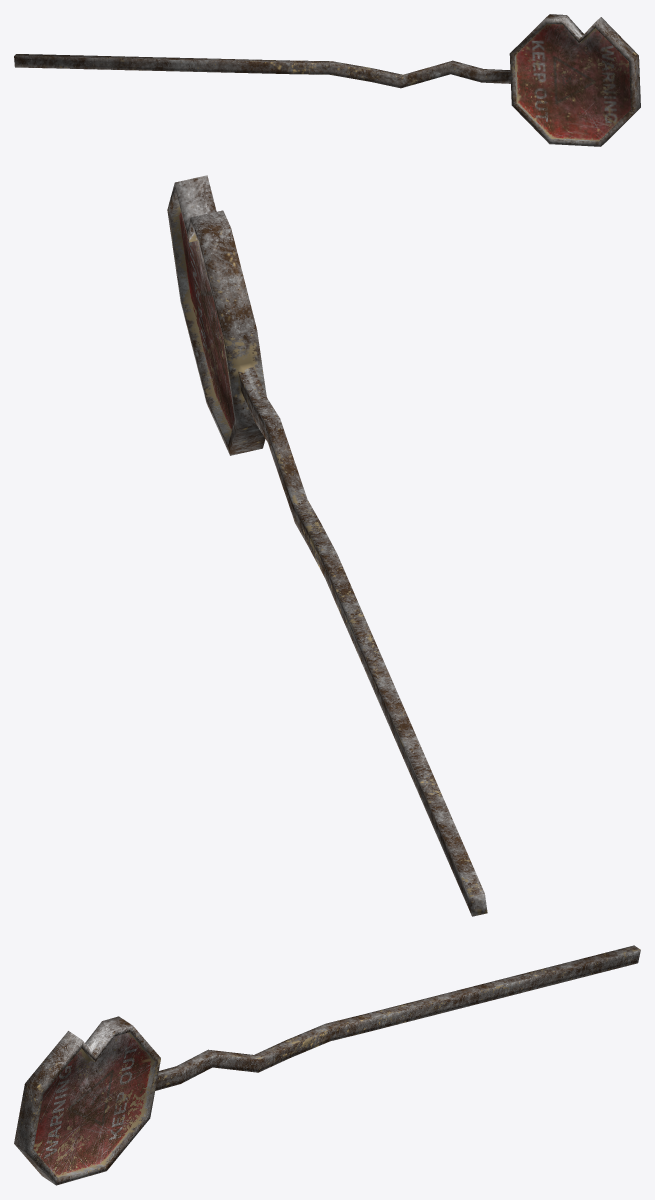
File: Anim_idle_senyal_objetos.0033.obj
The picture shows the model from 3 angles, top to bottom: view 1: azimuth 30°, elevation 25°; view 2: azimuth 150°, elevation 25°; view 3: azimuth 270°, elevation 25°; orthographic projection. The views are drawn at different scales.
Bounding box in the file's own units: 8.66 × 2.59 × 9.4.
